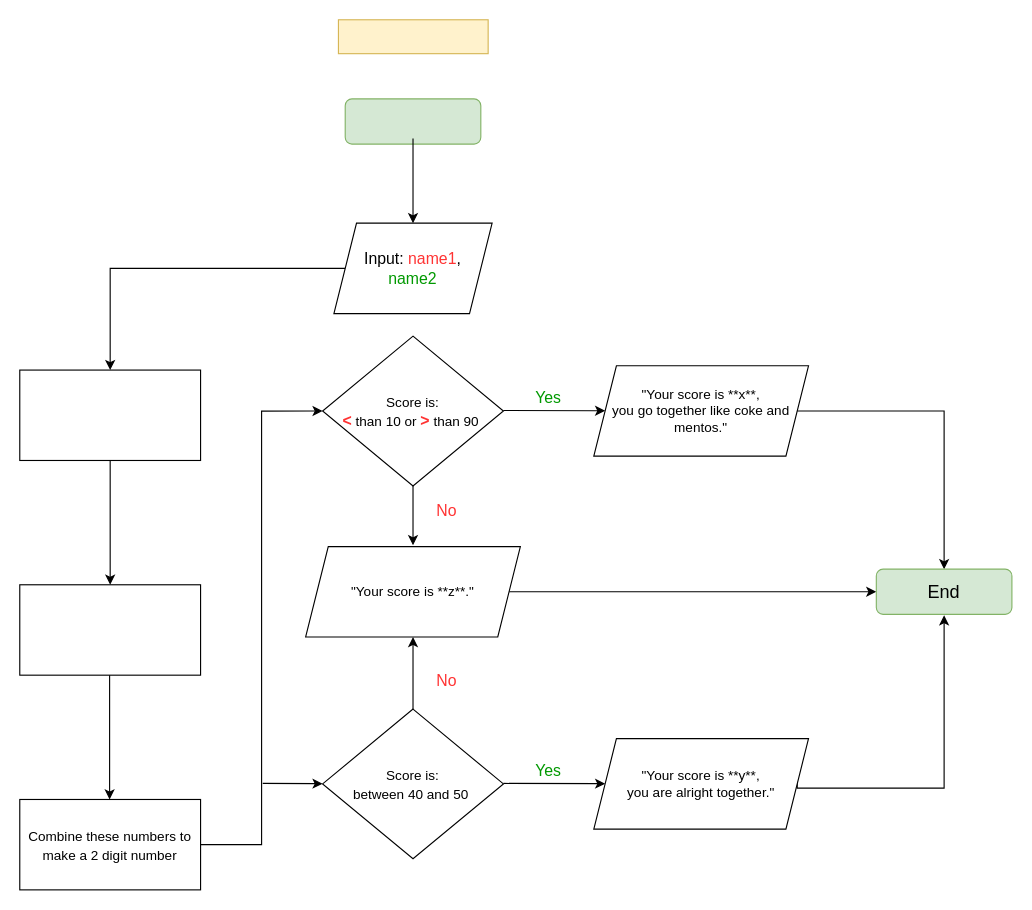
The diagram is 1032 pixels wide and 910 high, and some of its shapes have lost their labels. The shapes that lost their labels are listed below. From the top down, each one's centre as x and y in pixels, then its label:
(412,36): Love Calculator
(412,121): Start
(110,414): Check for the number of times the letters in the word TRUE occurs
(110,629): Check for the number of times the letters in the word LOVE occurs
